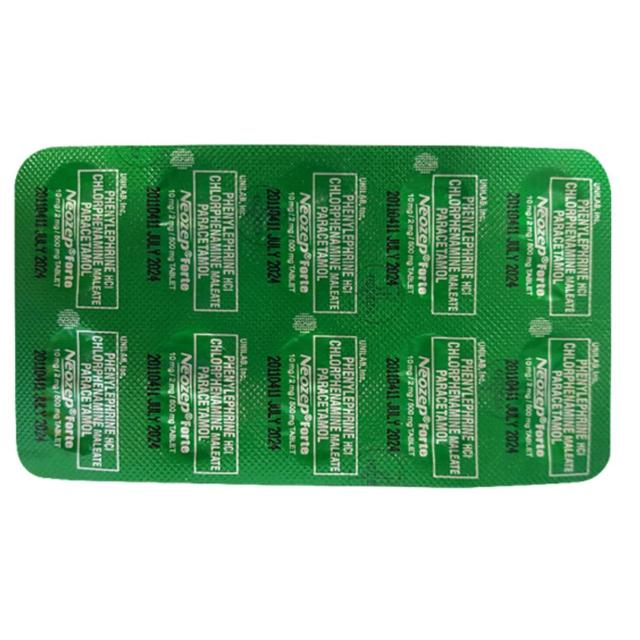blister: (12, 138, 617, 499)
